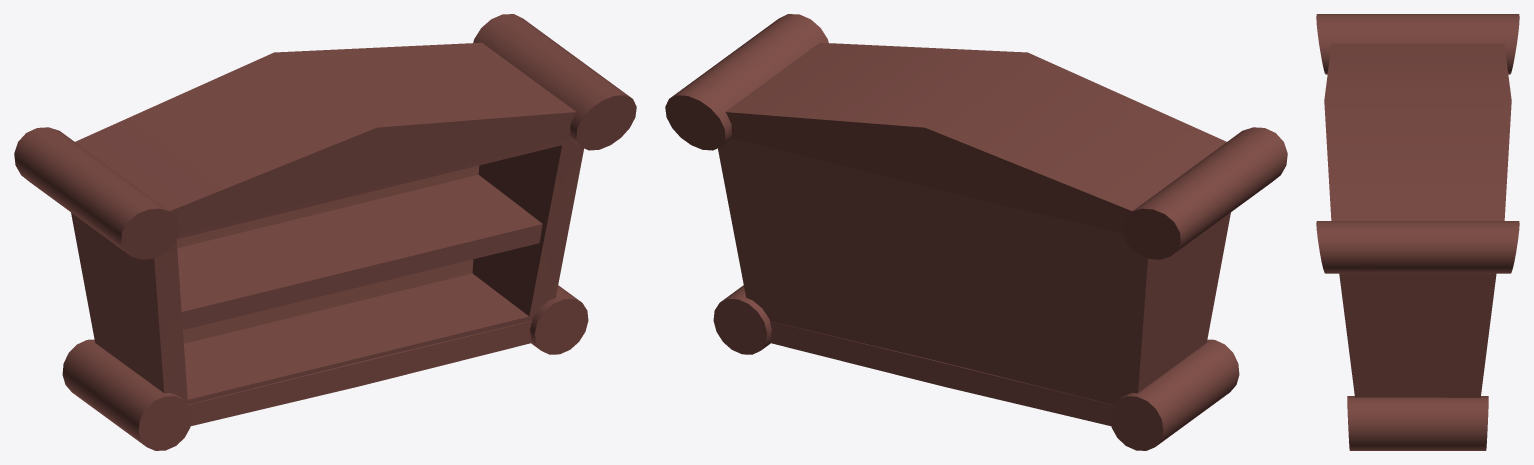
Rendered from SM_Bookshelf.fbx.
The picture shows the model from 3 angles, left to right: view 1: azimuth 30°, elevation 25°; view 2: azimuth 150°, elevation 25°; view 3: azimuth 270°, elevation 25°; orthographic projection. The views are drawn at different scales.
Parts seen in each view (by area): view 1: SM_Bookshelf_01; view 2: SM_Bookshelf_01; view 3: SM_Bookshelf_01.
Boxes of the visible parts, x1,y1,x2,y2 form: SM_Bookshelf_01: [14, 14, 636, 450]; SM_Bookshelf_01: [665, 14, 1287, 450]; SM_Bookshelf_01: [1316, 14, 1519, 450].
Bounding box in the file's own units: 134 × 70.63 × 50.05.
